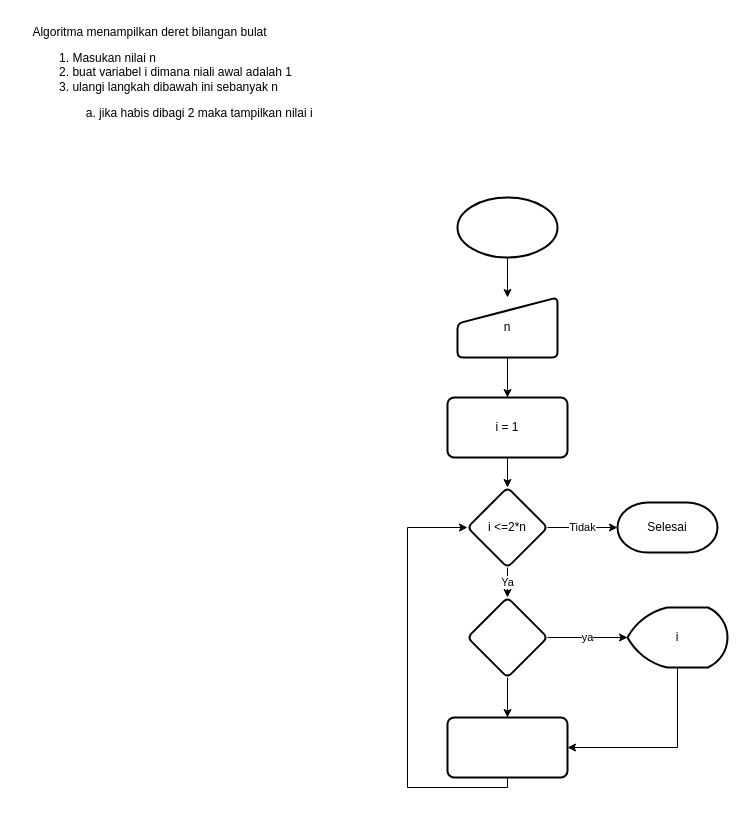
Some shapes in this 745 by 813 pixel diagram are drawn without their labels. Here are the shapes that lost their labels. From the top down, the centre of each, then its label:
At [507,227]: "Mulai".
At [507,637]: "i mod 2 == 0".
At [507,747]: "i = i + 1".
